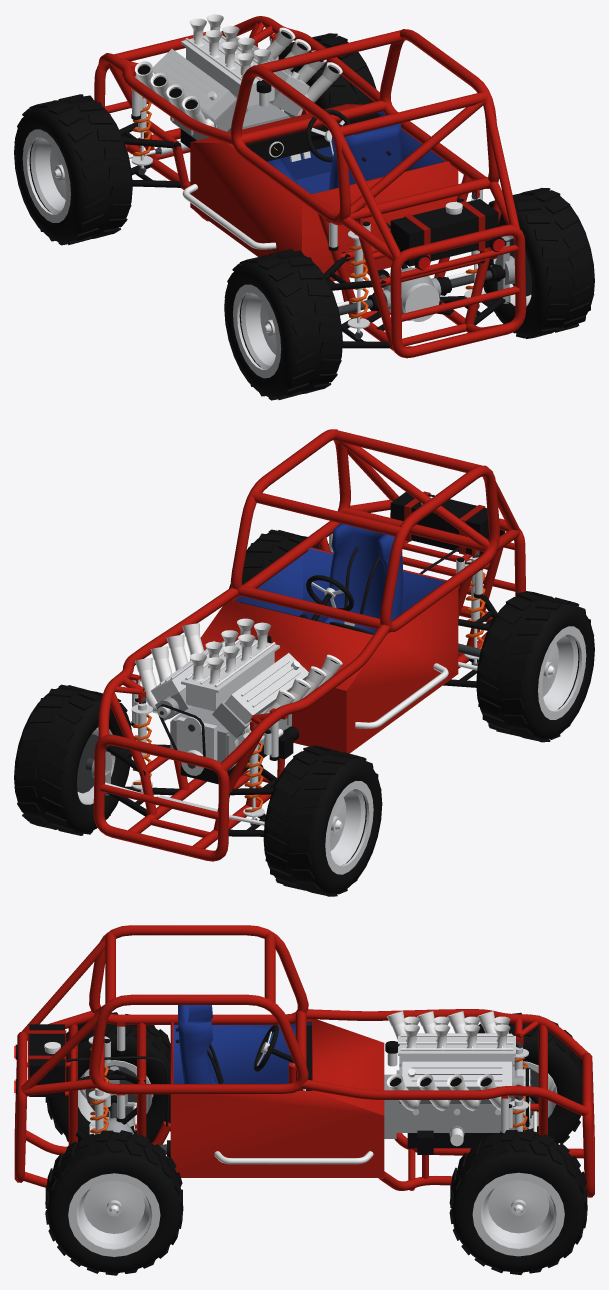
The model's file is stuntcar.glb.
3 views of the same model, one above another, from view 1: azimuth 30°, elevation 25°; view 2: azimuth 150°, elevation 25°; view 3: azimuth 270°, elevation 25° (orthographic). The views are drawn at different scales.
Visible parts, largest first — view 1: Body tub, Rear wheel L tyre, Front wheel L tyre, Rear wheel R tyre, Rear wheel L tread, Front wheel L tread, Rear bumper hoop.001, Rear wheel R tread, Cage side L.001, Cage side R.001, Fuel cell, Bucket seat (+31 smaller); view 2: Body tub, Front wheel L tyre, Rear wheel L tyre, Front wheel R tyre, Rear wheel L tread, Front wheel L tread, Bucket seat, Front wheel R tread, Cage side L.001, Front bumper hoop.001, Cage side R.001, Front upper rail.002 (+27 smaller); view 3: Body tub, Rear wheel R tyre, Front wheel R tyre, Cage side R.001, Cage side L.001, Rear wheel R rim, Front wheel R rim, Rear wheel L tyre, Front upper rail.003, Rear wheel R tread, Front wheel R tread, Front wheel L tyre (+30 smaller).
Part boxes in pixels (x1,y1,x2,y2): Body tub: (190, 104, 458, 281); Rear wheel L tyre: (224, 255, 342, 397); Front wheel L tyre: (14, 100, 132, 242); Rear wheel R tyre: (477, 190, 594, 336); Rear wheel L tread: (224, 249, 342, 400); Front wheel L tread: (14, 94, 132, 245); Rear bumper hoop.001: (390, 224, 526, 358); Rear wheel R tread: (488, 188, 594, 338); Cage side L.001: (230, 65, 350, 225); Cage side R.001: (379, 29, 499, 188); Fuel cell: (390, 199, 498, 266); Bucket seat: (329, 112, 403, 189); Body tub: (190, 547, 458, 753); Front wheel L tyre: (263, 750, 382, 893); Rear wheel L tyre: (476, 596, 594, 739); Front wheel R tyre: (14, 688, 131, 833); Rear wheel L tread: (476, 591, 594, 742); Front wheel L tread: (264, 745, 381, 896); Bucket seat: (323, 523, 403, 633); Front wheel R tread: (14, 684, 131, 835); Cage side L.001: (379, 465, 499, 632); Front bumper hoop.001: (93, 734, 229, 861); Cage side R.001: (230, 429, 350, 596); Front upper rail.002: (220, 624, 390, 771); Body tub: (170, 1019, 384, 1177); Rear wheel R tyre: (47, 1132, 181, 1273); Front wheel R tyre: (451, 1131, 585, 1272); Cage side R.001: (89, 994, 308, 1094); Cage side L.001: (89, 925, 308, 1024); Rear wheel R rim: (76, 1180, 152, 1248); Front wheel R rim: (481, 1180, 556, 1247); Rear wheel L tyre: (47, 1022, 170, 1142); Front upper rail.003: (301, 1079, 590, 1116); Rear wheel R tread: (45, 1130, 183, 1275); Front wheel R tread: (449, 1129, 587, 1274); Front wheel L tyre: (484, 1023, 582, 1143).
Size of the model in its own units: 2.48 by 1.98 by 4.24.
